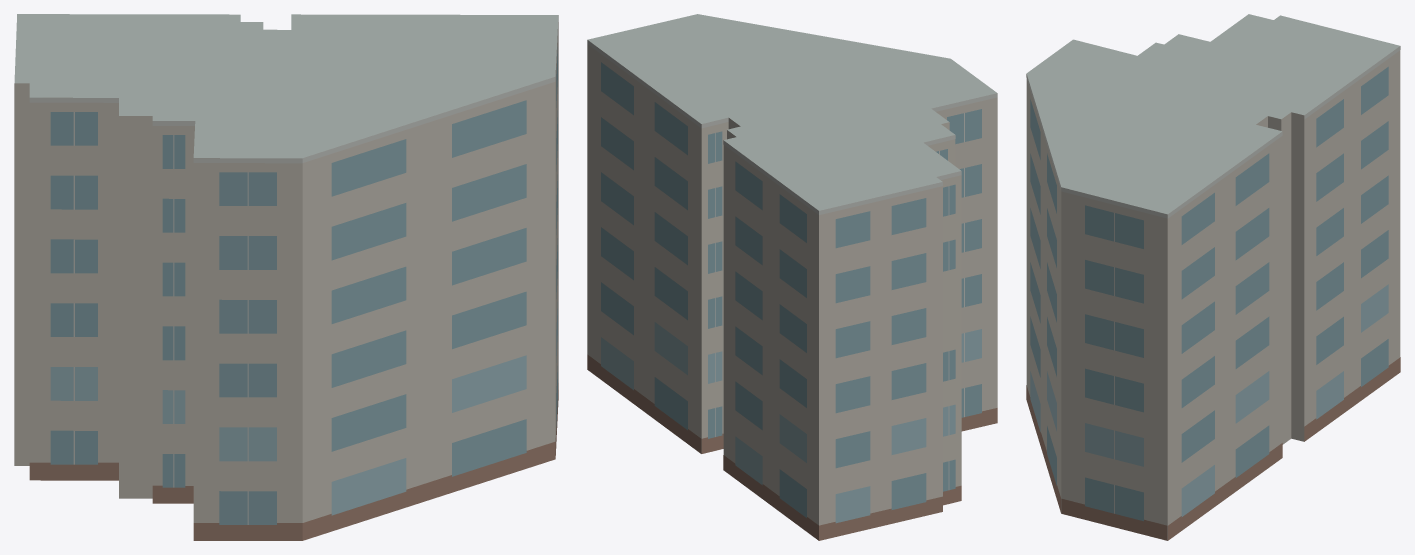
The model's file is survey-upis-32662867.glb.
3 renders of one model, left to right at view 1: azimuth 30°, elevation 25°; view 2: azimuth 150°, elevation 25°; view 3: azimuth 270°, elevation 25°, orthographic. The views are drawn at different scales.
Parts seen in each view (by area): view 1: survey-upis-32662867.tmp; view 2: survey-upis-32662867.tmp; view 3: survey-upis-32662867.tmp.
Boxes of the visible parts, x1,y1,x2,y2 form: survey-upis-32662867.tmp: (14,14,558,540); survey-upis-32662867.tmp: (587,14,997,540); survey-upis-32662867.tmp: (1026,14,1400,540).
Bounding box in the file's own units: 24.76 × 18.8 × 19.52.
